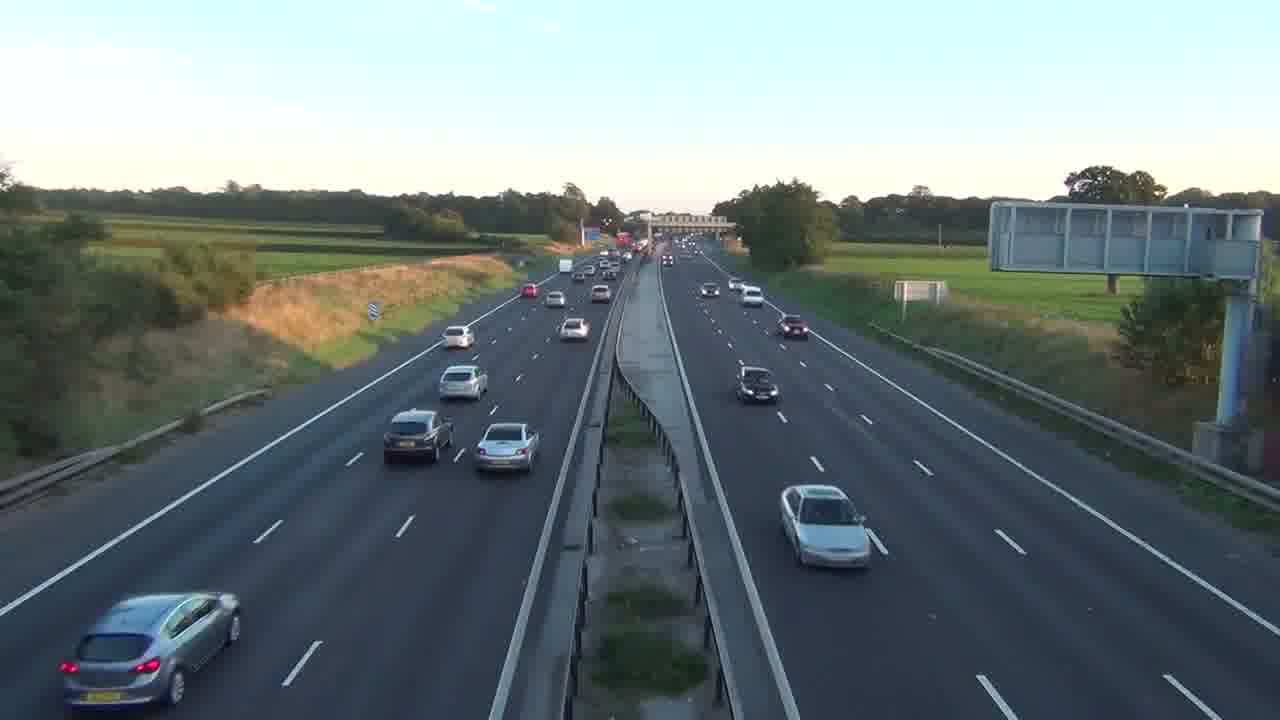car: (56, 590, 243, 715), (779, 483, 891, 570), (779, 483, 874, 569), (383, 408, 454, 464), (473, 421, 542, 473), (437, 363, 488, 401), (735, 365, 780, 405), (558, 317, 592, 342), (444, 325, 475, 350), (591, 283, 611, 303), (700, 282, 720, 296)
